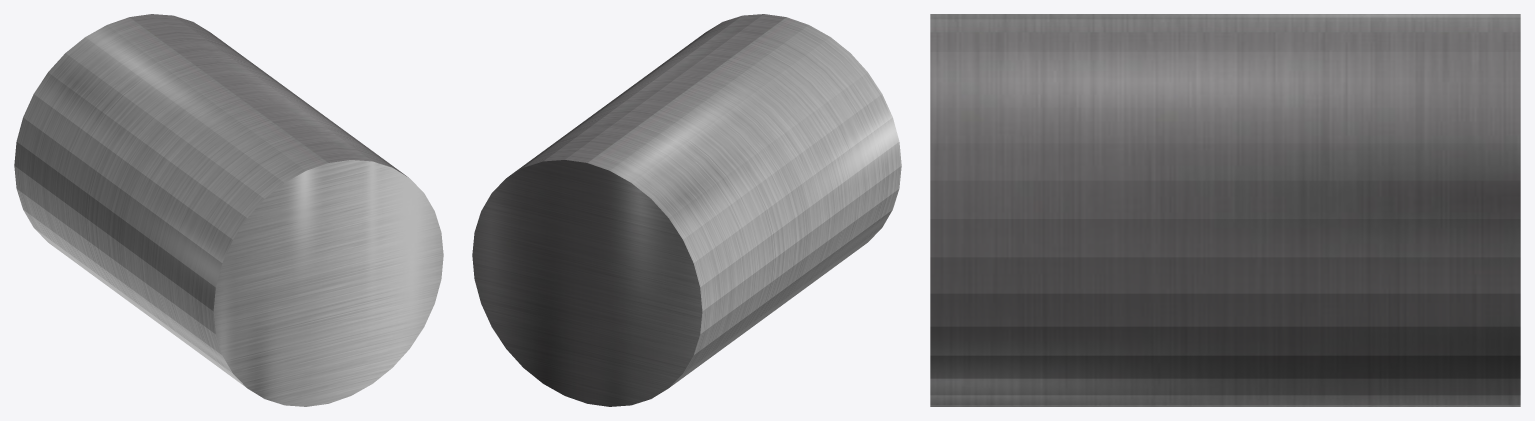
File: cylindrical-peg.obj
3 views of the same model, side by side, from view 1: azimuth 30°, elevation 25°; view 2: azimuth 150°, elevation 25°; view 3: azimuth 270°, elevation 25° (orthographic). The views are drawn at different scales.
Visible parts, largest first — view 1: Cylinder; view 2: Cylinder; view 3: Cylinder.
Part boxes in pixels (<box>): Cylinder: <box>14,14,443,406</box>; Cylinder: <box>472,14,901,406</box>; Cylinder: <box>930,14,1520,406</box>.
Size of the model in its own units: 0.6667 by 0.6667 by 1.
Materials: 1 (1 with a texture image).
